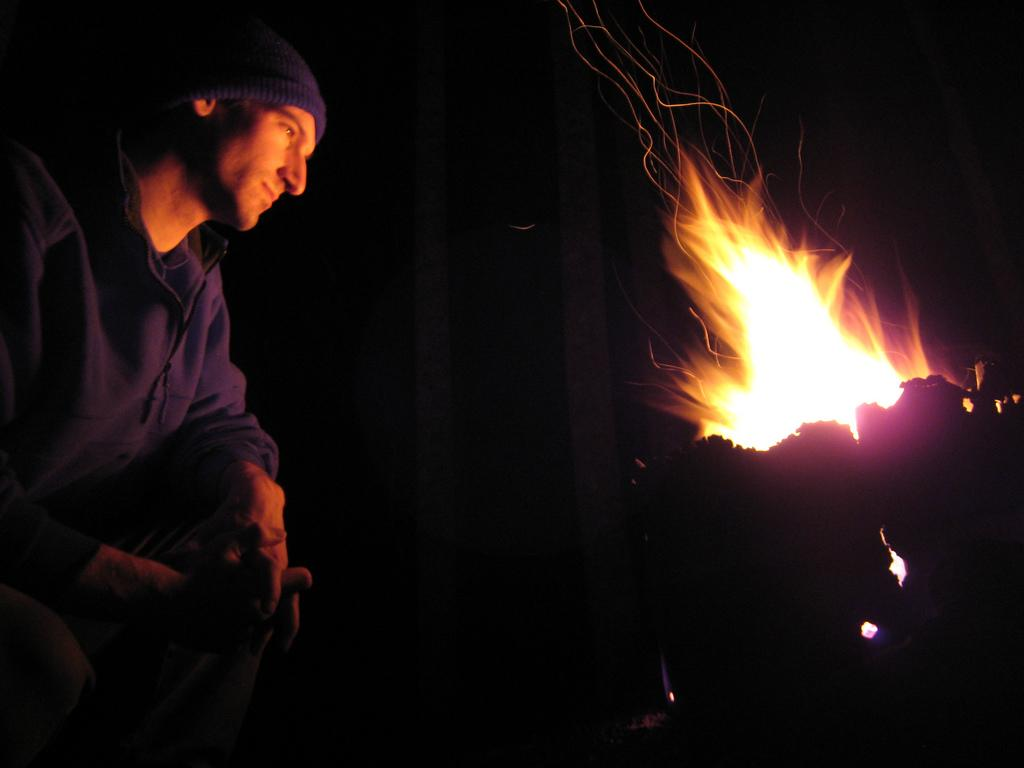fire: (742, 332, 862, 430)
